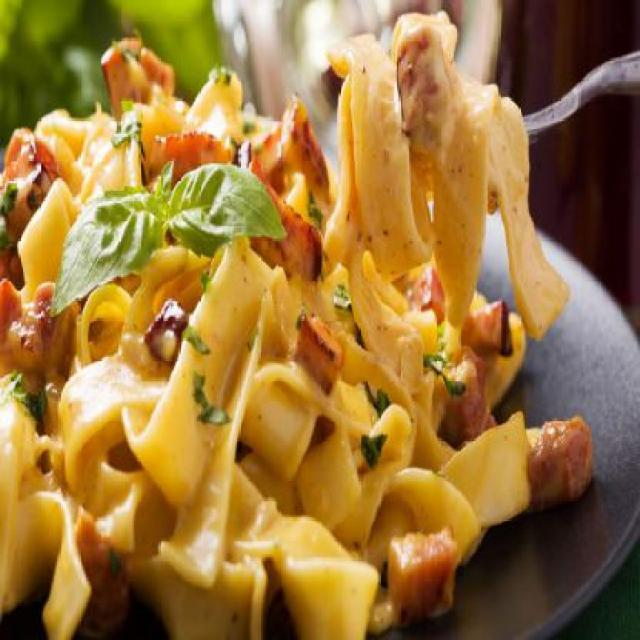Pasta with carbonara sauce: (1, 24, 574, 612)
